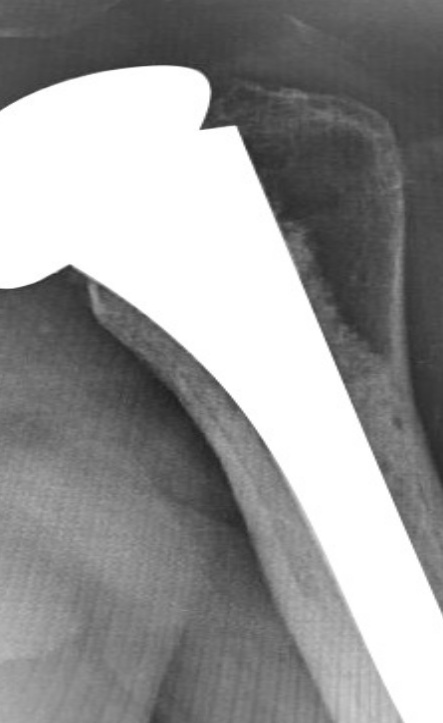Shoulder - Anotomyhead - Stryker: (1, 55, 289, 351)
Shoulder - Anotomytail - Stryker: (55, 99, 427, 546)
